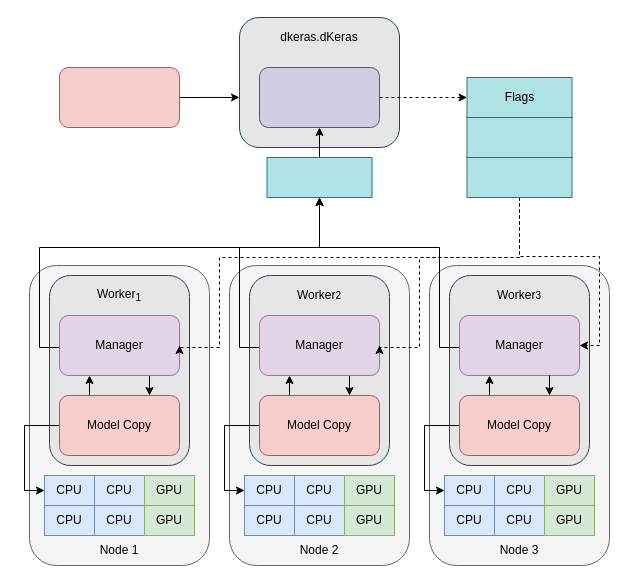
Image size: 627x583. Some labels were removed from this diagram. Here are the shapes that lost their labels. From the top down, the box of each, then its label:
(58, 66, 180, 128): Keras Model
(258, 66, 380, 128): Data Server
(466, 116, 572, 158): Weights
(266, 156, 372, 198): Results
(466, 156, 572, 198): Batch Data
